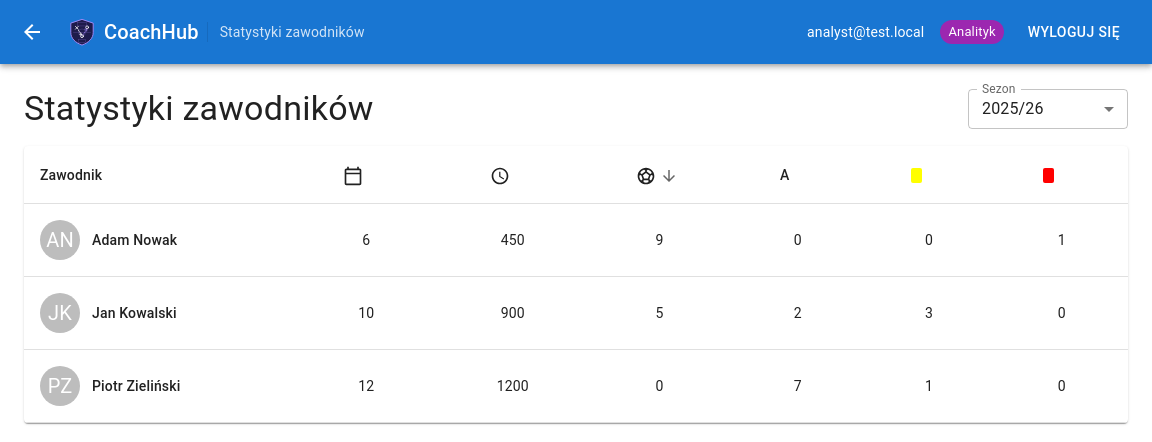
it: player statistics › switches seasons
This screenshot has width=1152, height=442.
Later steps or results of the test are not shown.
Expected: the text "Adam Nowak" is shown, left=92, top=230, right=177, bottom=250
Click the dropdown named "Sezon" at (1013, 109), box left=982, top=100, right=1044, bottom=118
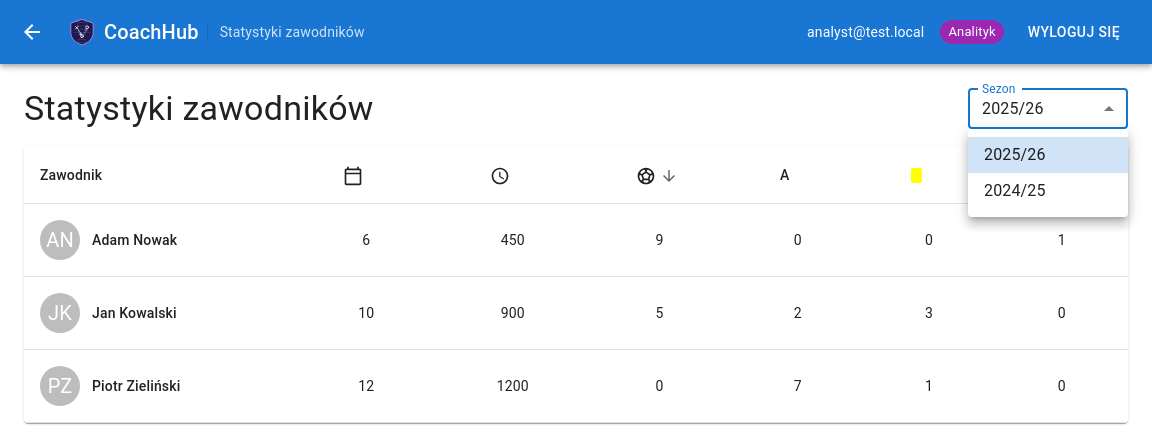
Now the options read "2025/26", "2024/25", in this order, box left=968, top=137, right=1128, bottom=173; left=984, top=181, right=1046, bottom=200
